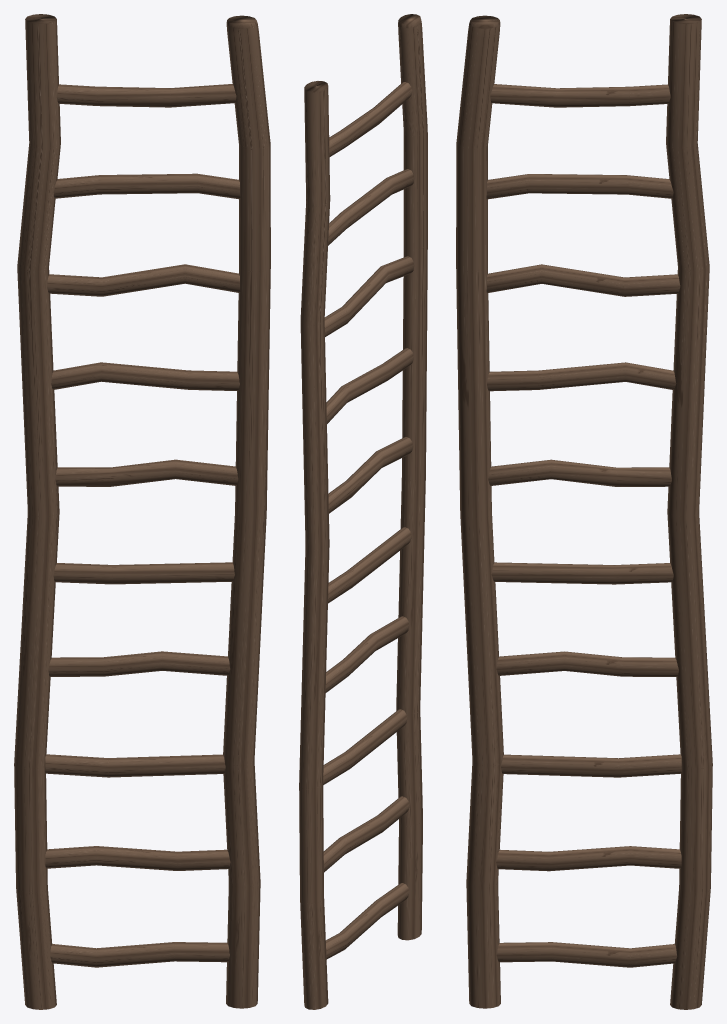
File: stairs.fbx
3 views of the same model, side by side, from view 1: azimuth 90°, elevation 25°; view 2: azimuth 150°, elevation 25°; view 3: azimuth 270°, elevation 25° (orthographic). The views are drawn at different scales.
Parts seen in each view (by area): view 1: Cylinder, Cylinder.001, Cylinder.004, Cylinder.003, Cylinder.010, Cylinder.008, Cylinder.002, Cylinder.006, Cylinder.007, Cylinder.005, Cylinder.009, Cylinder.011; view 2: Cylinder, Cylinder.001, Cylinder.004, Cylinder.003, Cylinder.008, Cylinder.010, Cylinder.002, Cylinder.007, Cylinder.006, Cylinder.005, Cylinder.009, Cylinder.011; view 3: Cylinder, Cylinder.001, Cylinder.004, Cylinder.003, Cylinder.010, Cylinder.008, Cylinder.002, Cylinder.005, Cylinder.006, Cylinder.007, Cylinder.009, Cylinder.011.
Part boxes in pixels (box(x1,y1,x2,y2)): Cylinder: box(14, 14, 60, 1009); Cylinder.001: box(223, 15, 270, 1008); Cylinder.004: box(47, 264, 240, 296); Cylinder.003: box(51, 362, 239, 391); Cylinder.010: box(53, 173, 240, 199); Cylinder.008: box(45, 846, 230, 870); Cylinder.002: box(55, 459, 238, 486); Cylinder.006: box(48, 651, 230, 676); Cylinder.007: box(45, 754, 225, 777); Cylinder.005: box(53, 562, 234, 584); Cylinder.009: box(50, 942, 229, 967); Cylinder.011: box(56, 84, 236, 107); Cylinder: box(299, 81, 330, 1009); Cylinder.001: box(396, 14, 427, 940); Cylinder.004: box(324, 256, 414, 336); Cylinder.003: box(326, 348, 413, 423); Cylinder.008: box(323, 796, 409, 872); Cylinder.010: box(328, 169, 414, 245); Cylinder.002: box(328, 437, 413, 513); Cylinder.007: box(323, 709, 407, 784); Cylinder.006: box(325, 616, 409, 692); Cylinder.005: box(328, 527, 411, 603); Cylinder.009: box(326, 883, 409, 959); Cylinder.011: box(329, 82, 412, 156); Cylinder: box(666, 14, 712, 1009); Cylinder.001: box(456, 15, 503, 1008); Cylinder.004: box(486, 264, 680, 296); Cylinder.003: box(487, 362, 676, 391); Cylinder.010: box(486, 174, 673, 199); Cylinder.008: box(496, 846, 681, 871); Cylinder.002: box(488, 459, 671, 486); Cylinder.005: box(491, 562, 673, 584); Cylinder.006: box(496, 651, 678, 676); Cylinder.007: box(501, 754, 681, 777); Cylinder.009: box(496, 942, 677, 967); Cylinder.011: box(490, 84, 670, 107).
Bounding box in the file's own units: 10.17 × 462 × 109.
Materials: 12 (12 with a texture image).
